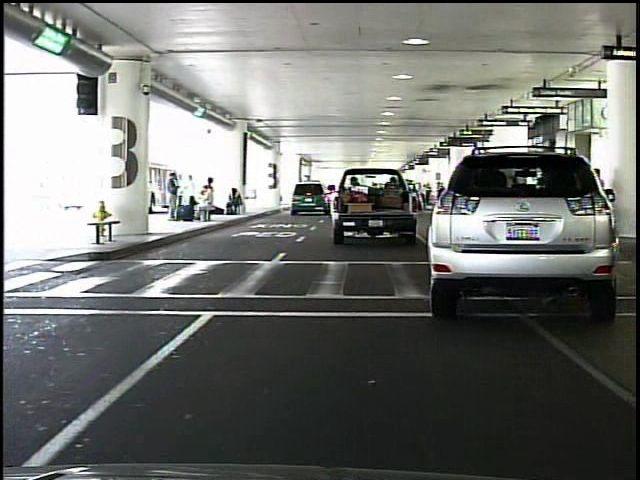person: (588, 166, 612, 252), (165, 171, 186, 223)
